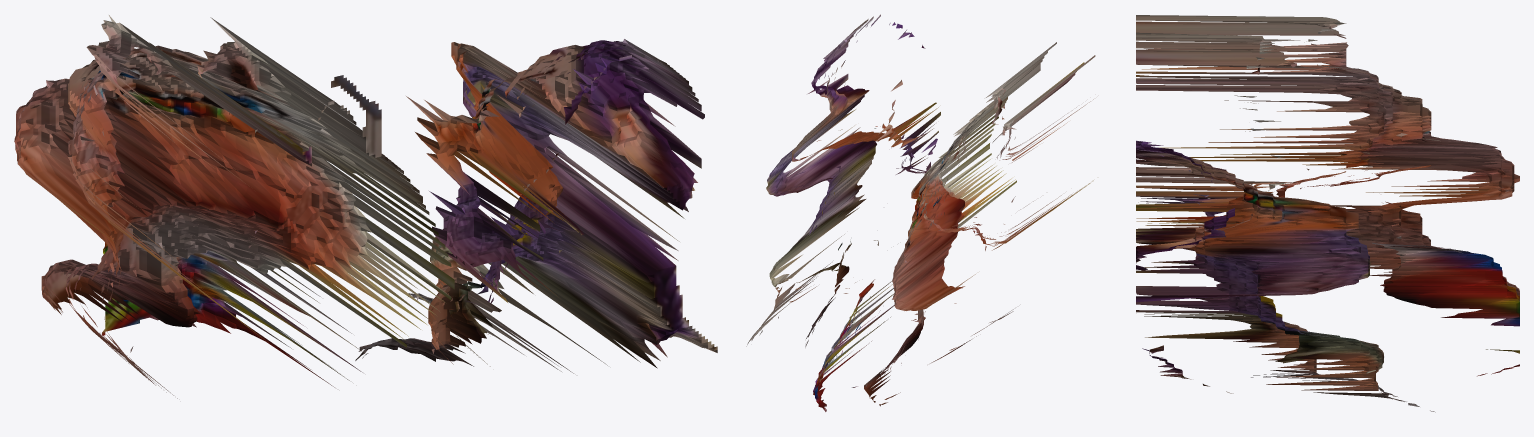
File: frame_00382.glb
3 renders of one model, left to right at view 1: azimuth 30°, elevation 25°; view 2: azimuth 150°, elevation 25°; view 3: azimuth 270°, elevation 25°, orthographic. The views are drawn at different scales.
Visible parts, largest first — view 1: geometry_0; view 2: geometry_0; view 3: geometry_0.
Boxes of the visible parts, x1,y1,x2,y2 form: geometry_0: (14, 15, 717, 398); geometry_0: (746, 14, 1095, 411); geometry_0: (1136, 15, 1519, 412).
Size of the model in its own units: 0.1476 by 0.1465 by 0.16.
1 material, 1 textured.
